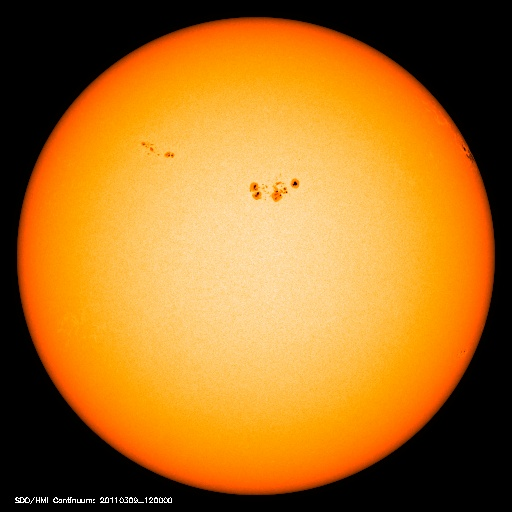sunspot: (240, 169, 308, 210), (131, 132, 181, 165), (453, 132, 483, 175)
